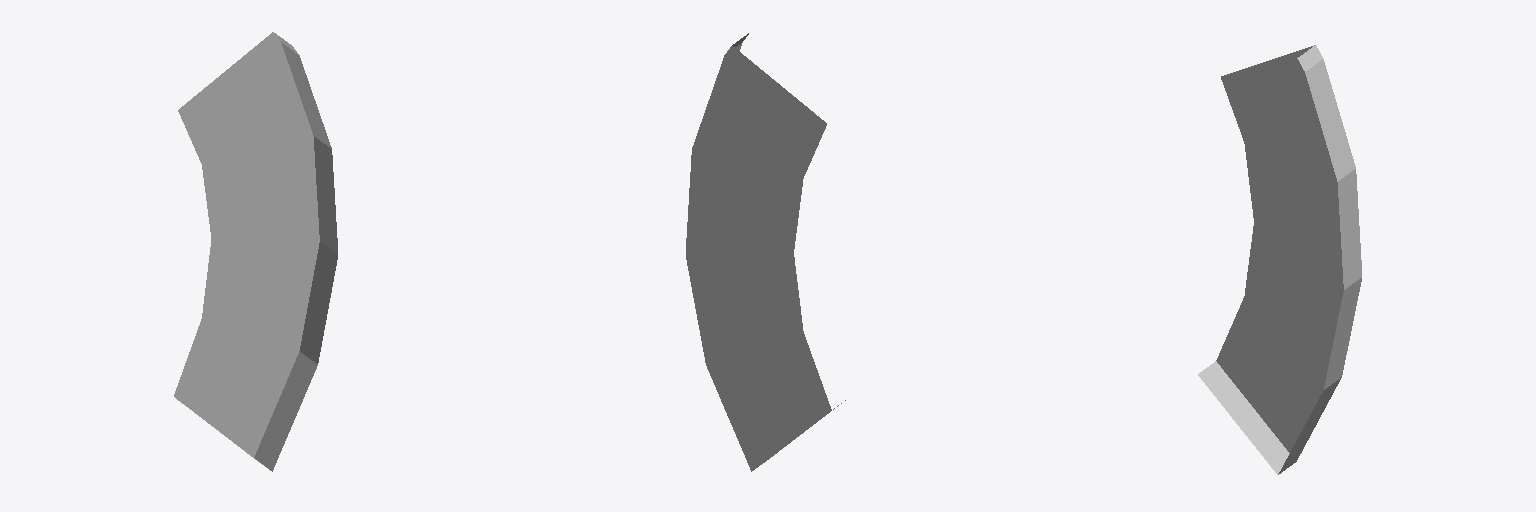
Rendered from original-9.obj.
The picture shows the model from 3 angles: view 1: azimuth 30°, elevation 25°; view 2: azimuth 150°, elevation 25°; view 3: azimuth 330°, elevation 25°; orthographic projection.
Visible parts, largest first — view 1: #ID193; view 2: #ID193; view 3: #ID193.
Boxes of the visible parts, <box> form: #ID193: <box>174,32,337,471</box>; #ID193: <box>686,33,845,471</box>; #ID193: <box>1198,45,1361,474</box>.
Size of the model in its own units: 0.0648 by 0.1784 by 0.0143.